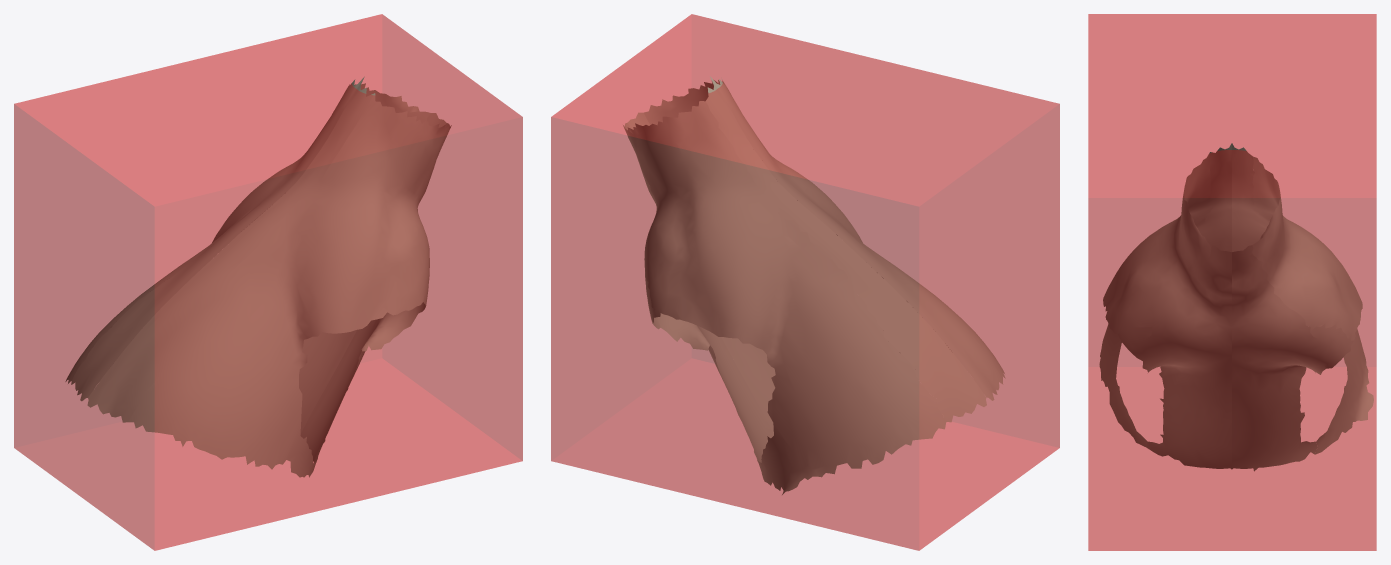
File: Torso_view.dae
3 views of the same model, side by side, from view 1: azimuth 30°, elevation 25°; view 2: azimuth 150°, elevation 25°; view 3: azimuth 270°, elevation 25° (orthographic). The views are drawn at different scales.
Parts seen in each view (by area): view 1: torso_box, Torso; view 2: torso_box, Torso; view 3: torso_box, Torso.
Part boxes in pixels (box(x1,y1,x2,y2)): torso_box: box(14, 14, 522, 550); Torso: box(65, 76, 451, 477); torso_box: box(551, 14, 1059, 550); Torso: box(623, 76, 1005, 494); torso_box: box(1088, 14, 1376, 550); Torso: box(1099, 143, 1373, 471).
Size of the model in its own units: 0.4531 by 0.2998 by 0.4187.
